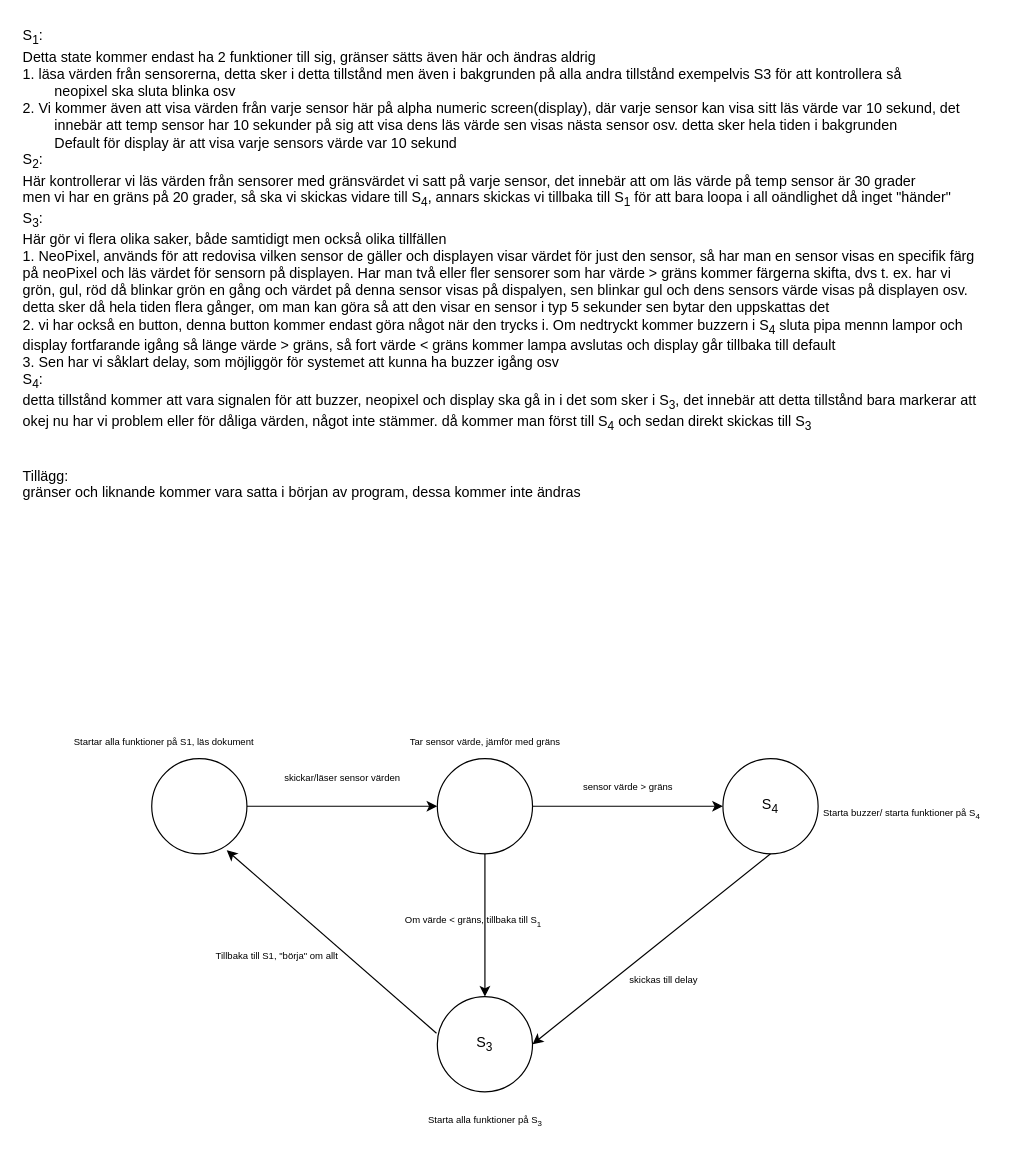
Image size: 1028x1157. Some labels were removed from this diagram. The shapes that lost their labels are listed below. From the top down, each one's centre as x and y in pixels, then its label:
At [199,805]: "S 1".
At [484,805]: "S 2".
